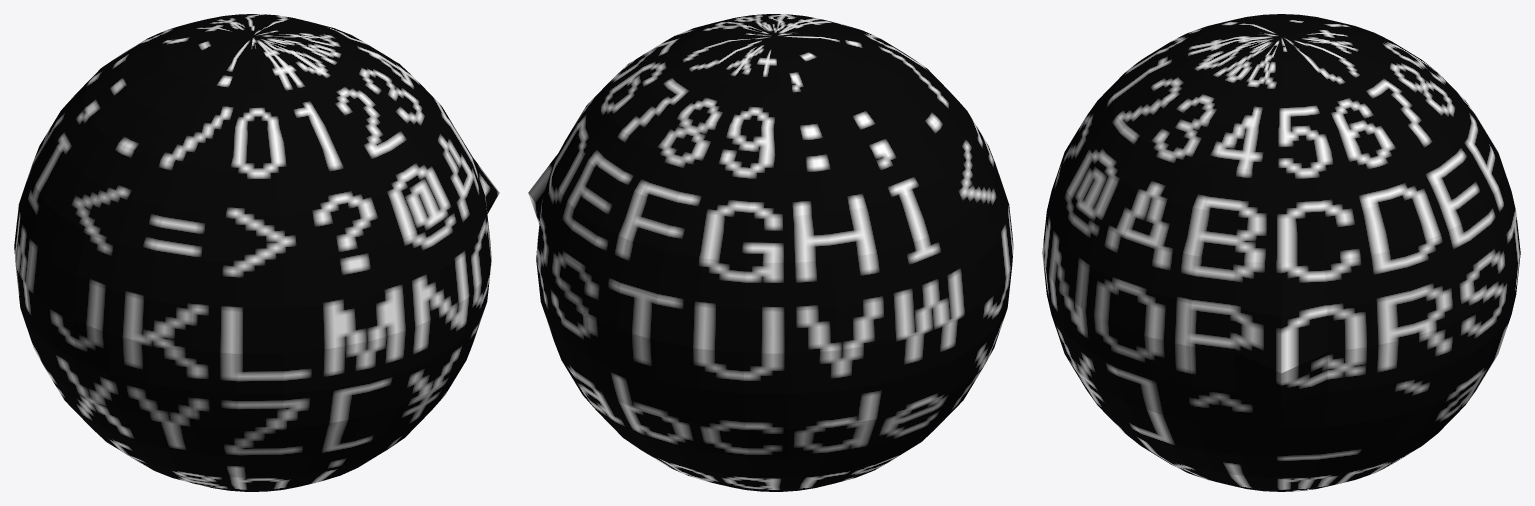
The model's file is Player.obj.
3 renders of one model, left to right at view 1: azimuth 30°, elevation 25°; view 2: azimuth 150°, elevation 25°; view 3: azimuth 270°, elevation 25°, orthographic.
Visible parts, largest first — view 1: 球; view 2: 球; view 3: 球.
Part boxes in pixels (x1=…): 球: x1=14, y1=14, x2=499, y2=491; 球: x1=528, y1=14, x2=1013, y2=491; 球: x1=1042, y1=14, x2=1520, y2=491.
Size of the model in its own units: 2.19 by 2 by 2.
